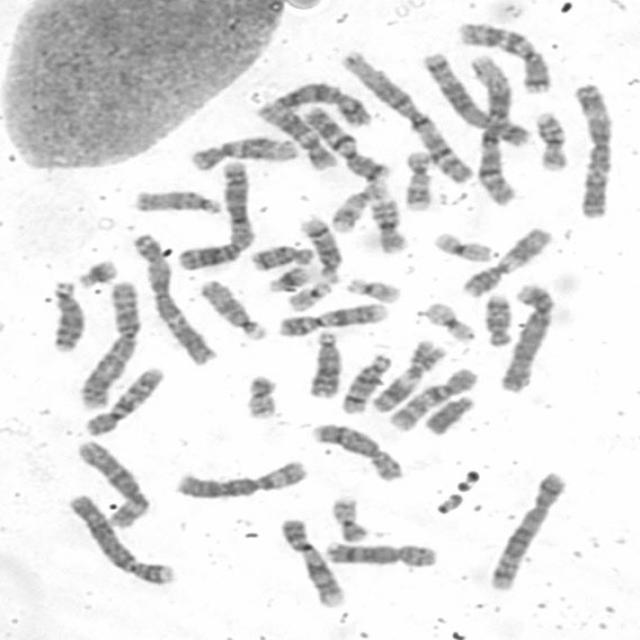A1: (337, 48, 477, 186), (466, 51, 520, 208)
A2: (174, 158, 254, 272), (74, 278, 142, 410)
A3: (130, 230, 218, 365), (568, 80, 614, 220)
B4: (64, 489, 177, 586), (494, 279, 558, 394)
B5: (419, 49, 532, 147), (485, 468, 569, 592)
C10: (383, 364, 480, 434), (81, 363, 167, 438)
C11: (458, 224, 554, 298), (367, 337, 445, 414)
C12: (252, 100, 338, 170), (186, 133, 299, 172)
C6: (72, 436, 151, 530), (171, 457, 310, 501)
C7: (300, 104, 393, 182), (455, 20, 553, 93)
C8: (308, 420, 404, 484), (321, 538, 440, 568)
C9: (276, 515, 345, 609), (274, 299, 389, 338)
D13: (46, 277, 87, 354), (304, 328, 343, 398)
D14: (337, 351, 394, 415), (296, 213, 342, 284)
D15: (196, 276, 269, 342), (130, 187, 224, 217)
E16: (367, 195, 409, 253), (532, 108, 569, 171)
E17: (326, 178, 388, 234), (400, 147, 434, 213)
E18: (247, 241, 314, 272), (481, 291, 514, 347)
F19: (422, 298, 478, 344), (429, 228, 495, 263)
F20: (236, 372, 282, 420), (328, 494, 371, 543)
G21: (74, 257, 120, 290), (264, 263, 311, 294)
G22: (282, 278, 334, 312), (343, 275, 402, 304)
X: (260, 79, 374, 128)
Y: (419, 392, 477, 436)
